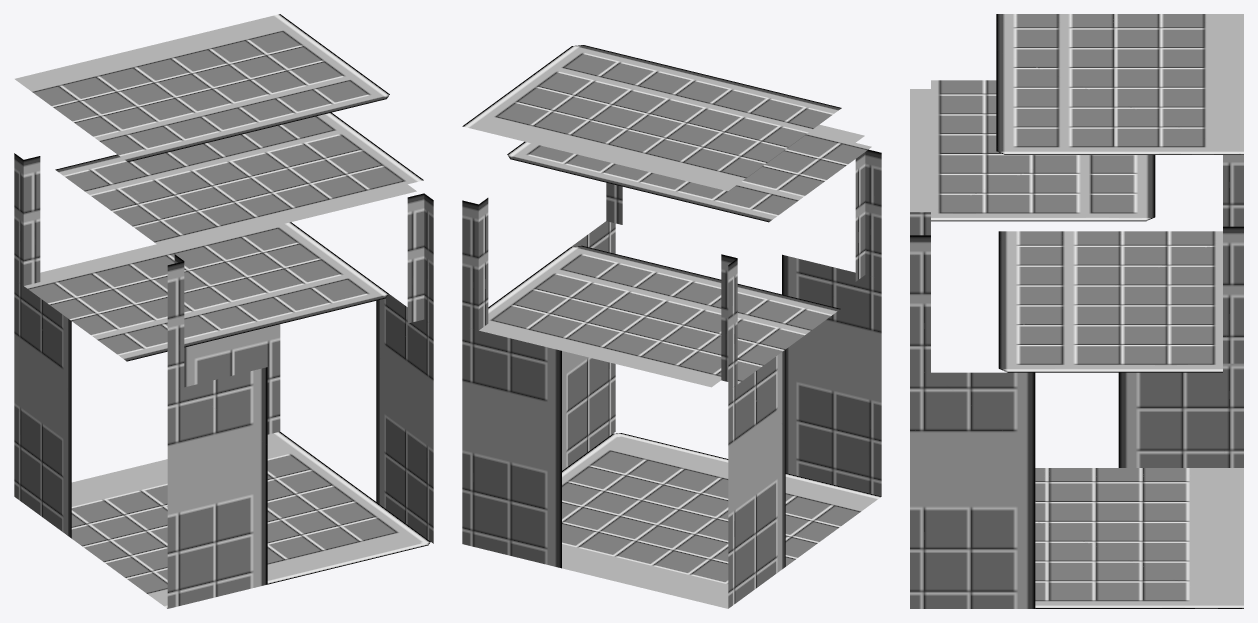
File: vender_alt.obj
3 renders of one model, left to right at view 1: azimuth 30°, elevation 25°; view 2: azimuth 150°, elevation 25°; view 3: azimuth 270°, elevation 25°, orthographic. The views are drawn at different scales.
Parts seen in each view (by area): view 1: vender_alt; view 2: vender_alt; view 3: vender_alt.
Boxes of the visible parts, x1=… form: vender_alt: x1=14, y1=14, x2=433, y2=608; vender_alt: x1=462, y1=45, x2=881, y2=608; vender_alt: x1=910, y1=14, x2=1243, y2=608.
Size of the model in its own units: 2 by 3 by 2.
